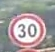limite 30: (6, 12, 46, 47)
